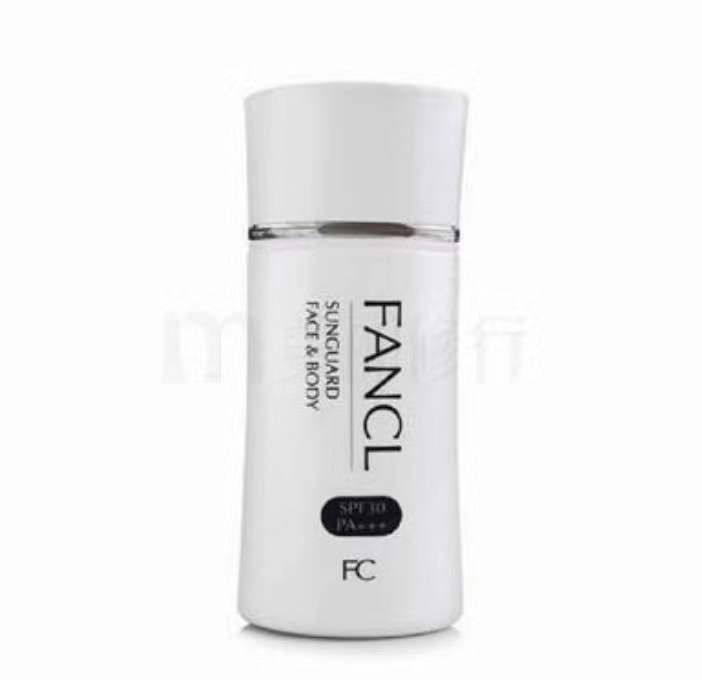cosmetic: (236, 92, 474, 639)
